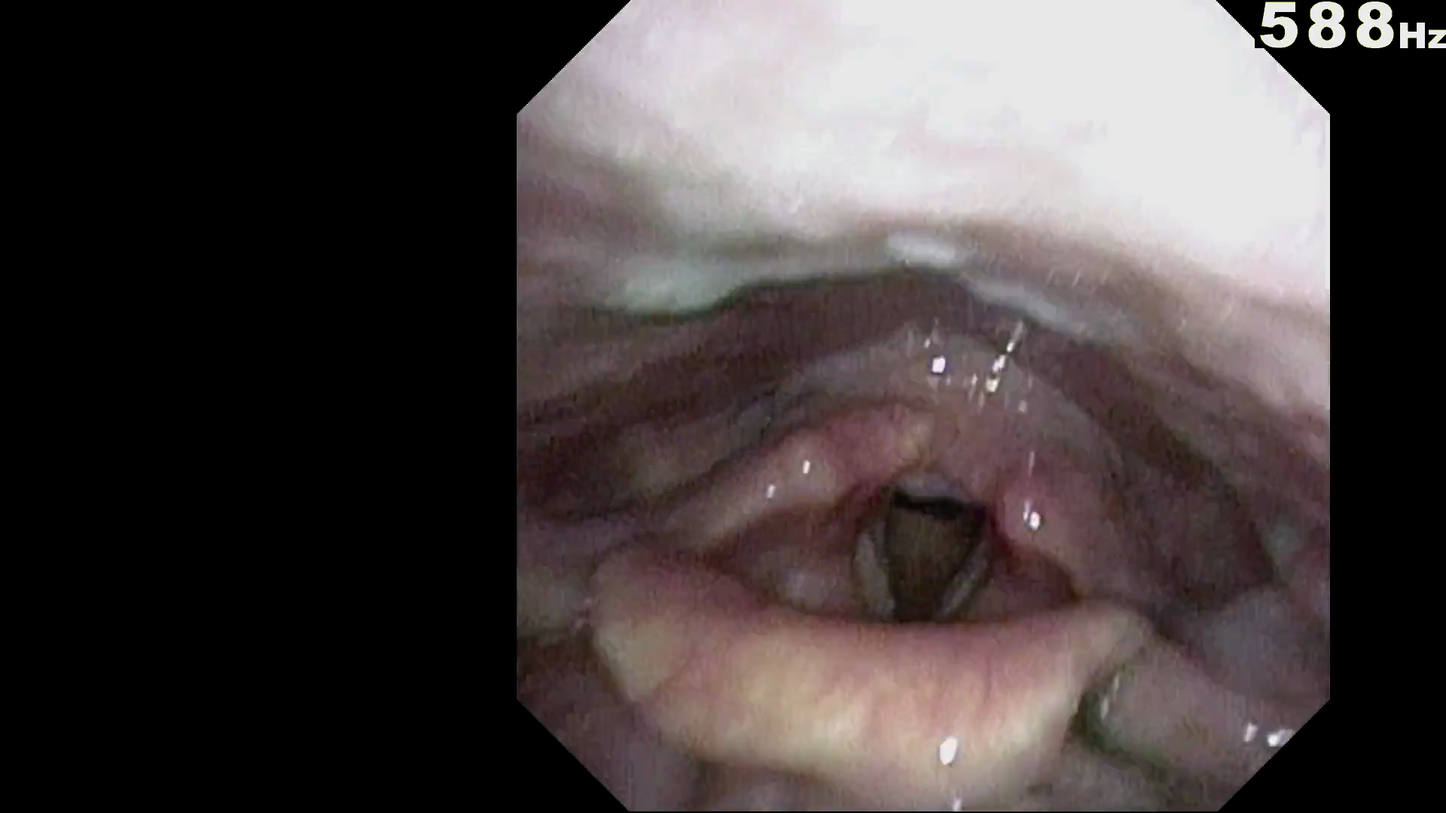trachea: (869, 484, 994, 637)
